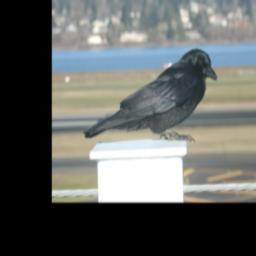Crow: (82, 48, 218, 141)
